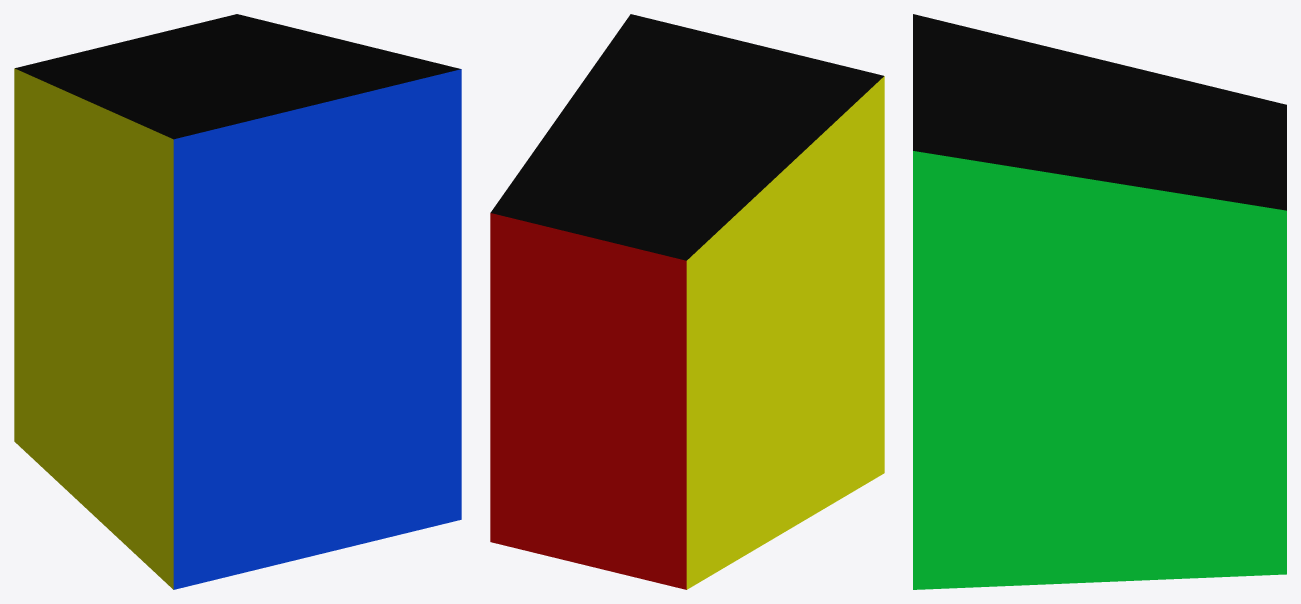
Rendered from ItemBoxClassic.glb.
3 renders of one model, left to right at view 1: azimuth 30°, elevation 25°; view 2: azimuth 150°, elevation 25°; view 3: azimuth 270°, elevation 25°, orthographic. The views are drawn at different scales.
Visible parts, largest first — view 1: Cube; view 2: Cube; view 3: Cube.
Boxes of the visible parts, <box> form: Cube: <box>14,14,461,589</box>; Cube: <box>490,14,884,589</box>; Cube: <box>913,14,1286,589</box>.
Bounding box in the file's own units: 2.01 × 3 × 2.31.
1 material, 1 textured.
